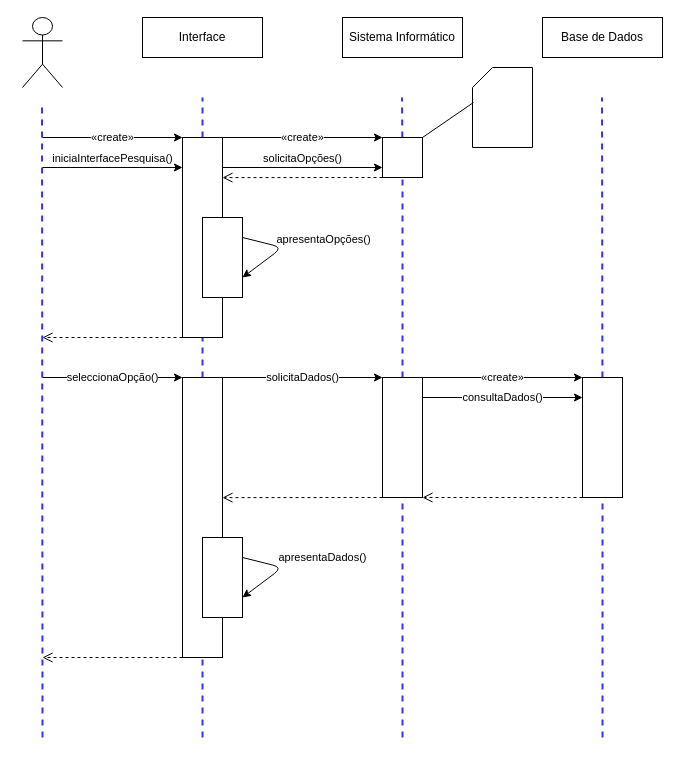
The diagram is 680 pixels wide and 757 high, and some of its shapes have lost their labels. The centre of each missing label's shape, as x and y in pixels:
"Opções do diagrama de use cases Pesquisar Informação" belongs at (x=502, y=107).
"Utilizador" belongs at (x=42, y=52).
